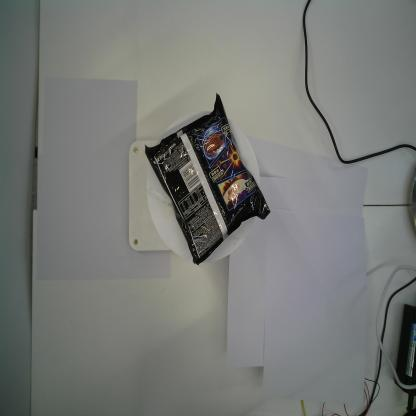Instant Noodles: (143, 91, 270, 266)
